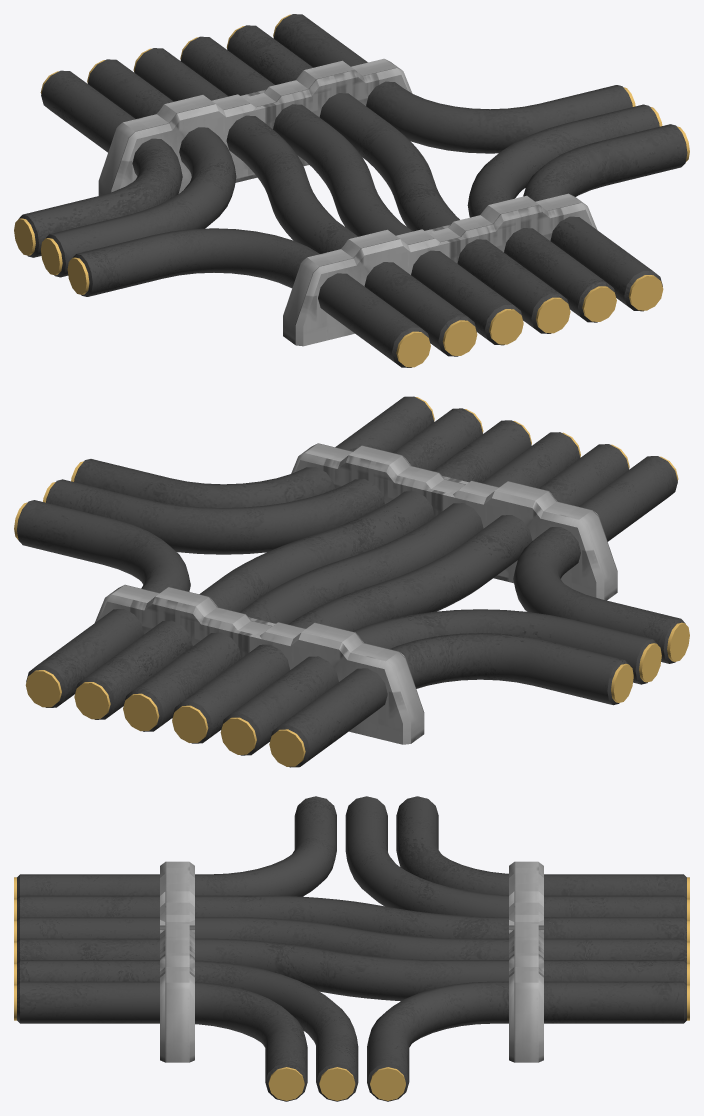
File: crossroad_6_3_pipes.fbx
3 views of the same model, one above another, from view 1: azimuth 30°, elevation 25°; view 2: azimuth 150°, elevation 25°; view 3: azimuth 270°, elevation 25° (orthographic). The views are drawn at different scales.
Parts seen in each view (by area): view 1: crossroad_6_3_pipes; view 2: crossroad_6_3_pipes; view 3: crossroad_6_3_pipes.
Boxes of the visible parts, x1,y1,x2,y2 form: crossroad_6_3_pipes: [14, 14, 689, 367]; crossroad_6_3_pipes: [14, 396, 689, 767]; crossroad_6_3_pipes: [14, 796, 689, 1101].
Bounding box in the file's own units: 760 × 100 × 800.
